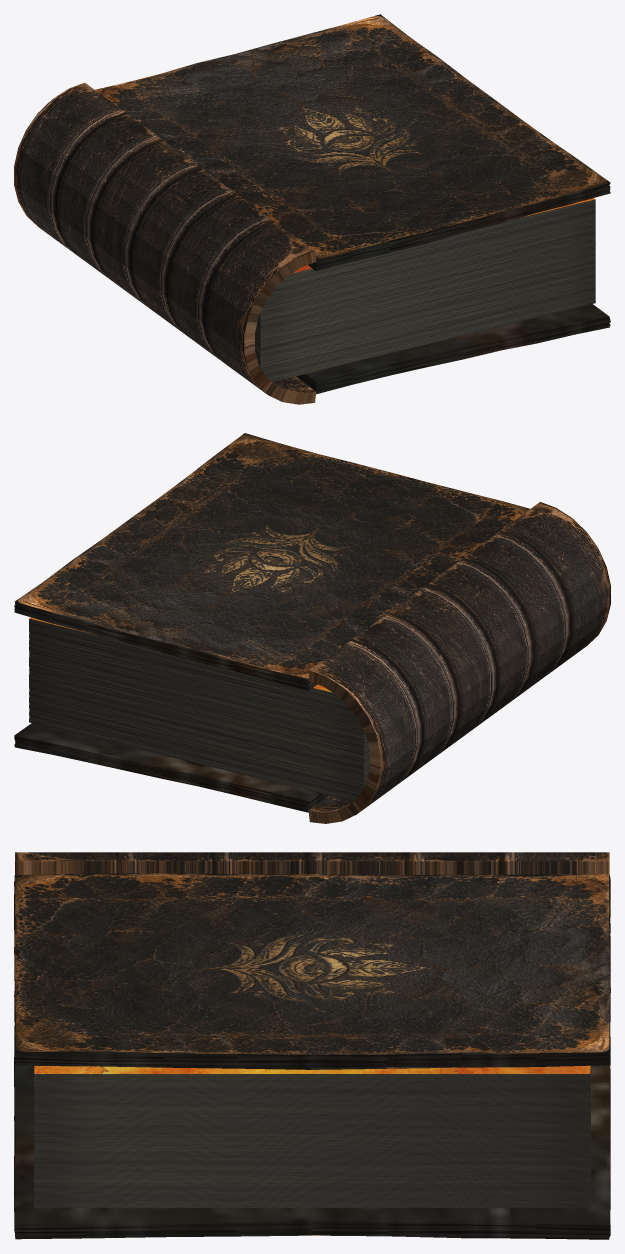
The model's file is book.glb.
The picture shows the model from 3 angles, top to bottom: view 1: azimuth 30°, elevation 25°; view 2: azimuth 150°, elevation 25°; view 3: azimuth 270°, elevation 25°; orthographic projection. The views are drawn at different scales.
Parts seen in each view (by area): view 1: Cover_Front, Spine, Pages, Cover_Back; view 2: Cover_Front, Spine, Pages, Cover_Back; view 3: Cover_Front, Pages, Cover_Back, Spine.
Part boxes in pixels (x1,y1,x2,y2): Cover_Front: (95,14,610,270); Spine: (14,82,316,404); Pages: (255,198,595,381); Cover_Back: (295,304,610,394); Cover_Front: (14,433,529,690); Spine: (308,502,610,823); Pages: (29,617,369,801); Cover_Back: (14,723,328,812); Cover_Front: (14,873,610,1069); Pages: (34,1065,590,1207); Cover_Back: (14,1037,610,1239); Spine: (15,852,609,874).
Bounding box in the file's own units: 0.3106 × 0.1229 × 0.3393.
5 materials, 5 textured.
